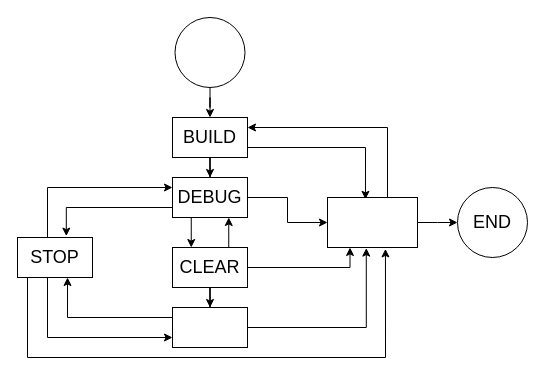
The diagram is 545 pixels wide and 383 high, and some of its shapes have lost their labels. The centre of each missing label's shape, as x and y in pixels:
"DESTROY" belongs at (x=372, y=222).
"RUN" belongs at (x=210, y=327).
"START" belongs at (x=209, y=52).
